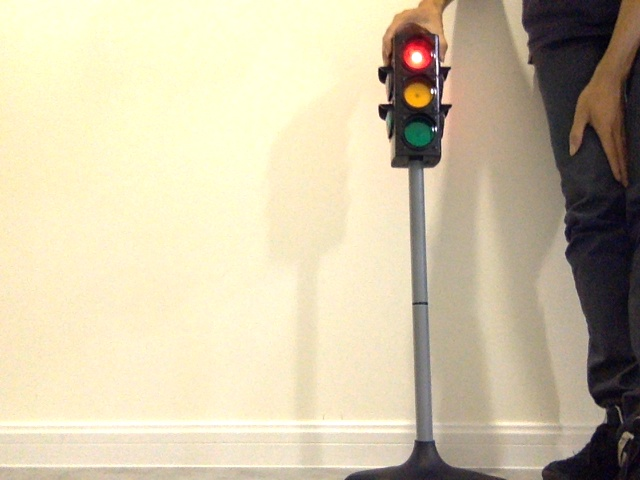red: (395, 36, 433, 150)
